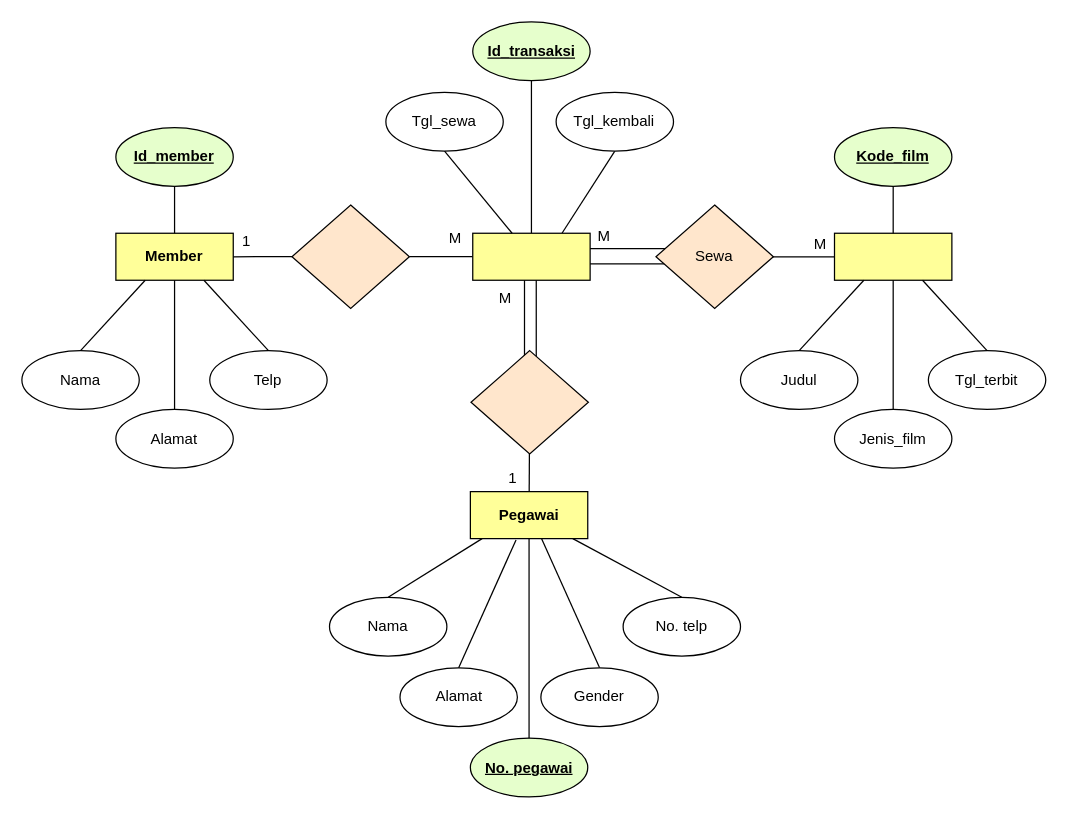
The diagram is 1069 pixels wide and 819 high, and some of its shapes have lost their labels. The centre of each missing label's shape, as x and y in pixels:
"Catat" goes at pixel 529 401.
"Film" goes at pixel 892 256.
"Proses" goes at pixel 350 256.
"Transaksi" goes at pixel 531 256.
